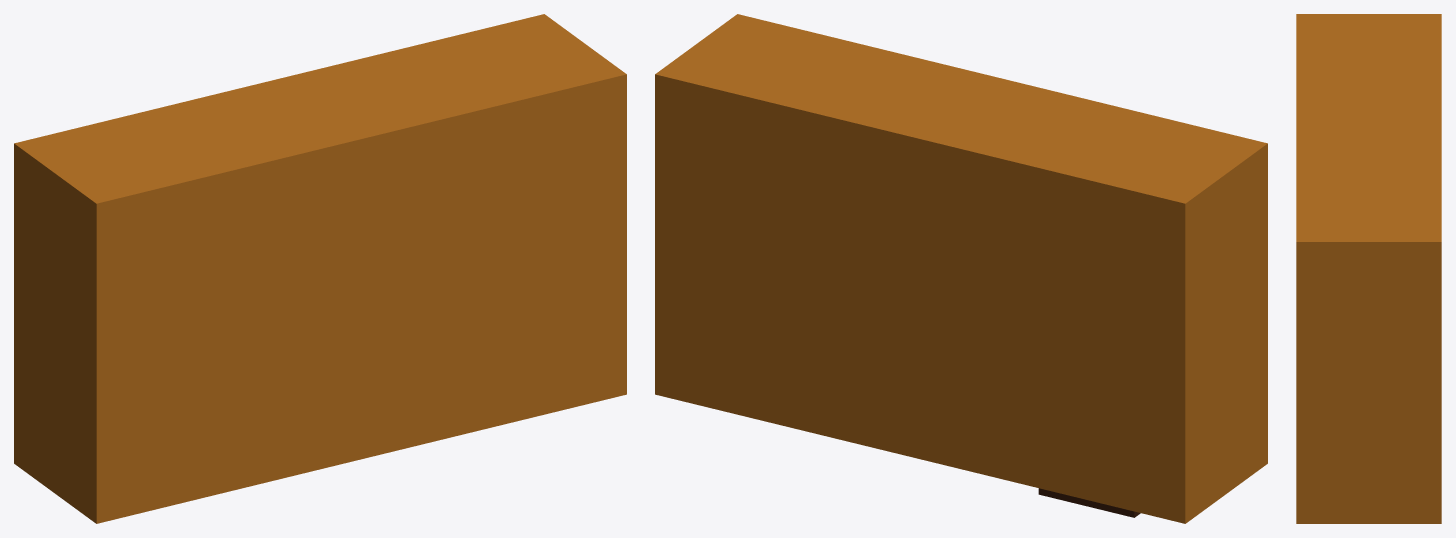
The model's file is market.obj.
3 views of the same model, side by side, from view 1: azimuth 30°, elevation 25°; view 2: azimuth 150°, elevation 25°; view 3: azimuth 270°, elevation 25° (orthographic). The views are drawn at different scales.
Parts seen in each view (by area): view 1: market_body; view 2: market_body, market_door; view 3: market_body.
Part boxes in pixels (x1,y1,x2,y2): market_body: (14, 14, 626, 523); market_body: (655, 14, 1267, 523); market_door: (1038, 488, 1140, 517); market_body: (1296, 14, 1441, 523).
Bounding box in the file's own units: 2.6 × 1.53 × 0.7.
